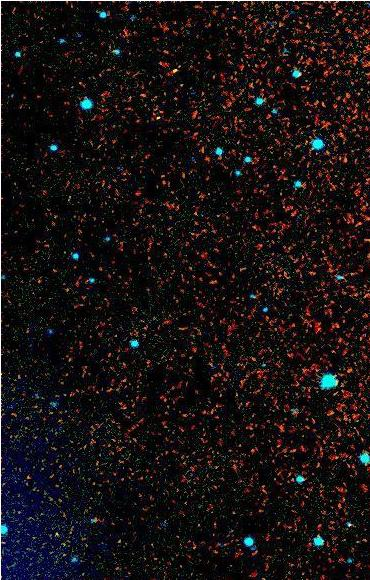star: (40, 519, 70, 549)
